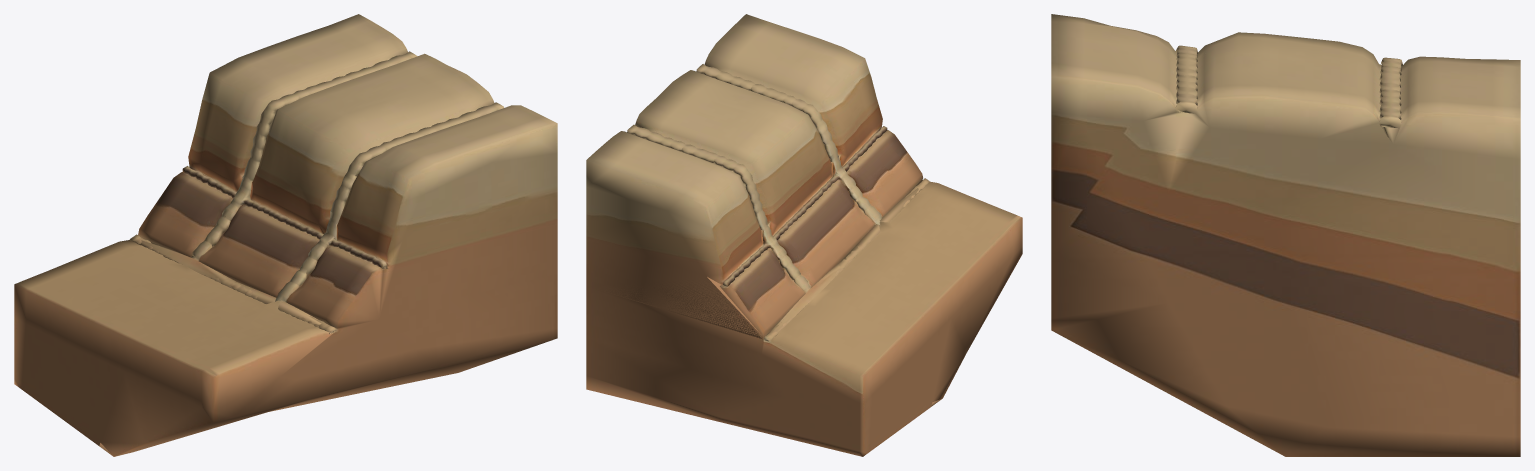
3 views of the same model, side by side, from view 1: azimuth 30°, elevation 25°; view 2: azimuth 150°, elevation 25°; view 3: azimuth 270°, elevation 25° (orthographic). The views are drawn at different scales.
Size of the model in its own units: 0.9995 by 0.8931 by 0.9995.
Materials: 1 (1 with a texture image).
